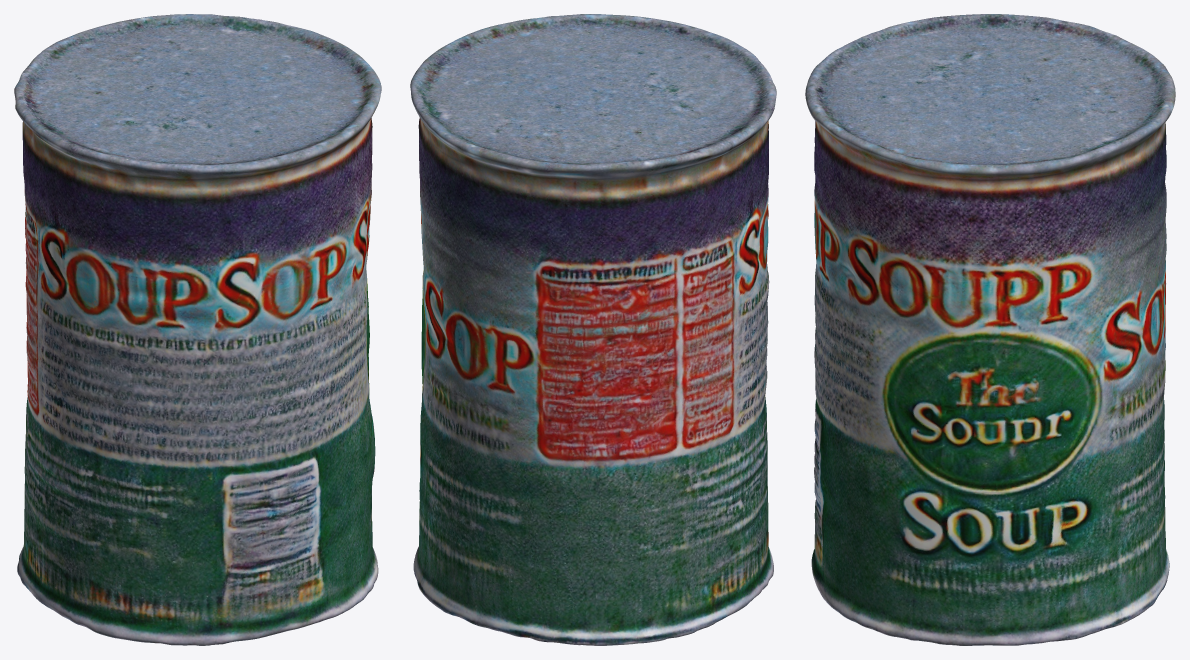
File: food-5.glb
3 renders of one model, left to right at view 1: azimuth 30°, elevation 25°; view 2: azimuth 150°, elevation 25°; view 3: azimuth 270°, elevation 25°, orthographic.
Parts seen in each view (by area): view 1: model_0; view 2: model_0; view 3: model_0.
Boxes of the visible parts, <box> form: model_0: <box>14,14,381,645</box>; model_0: <box>410,14,776,645</box>; model_0: <box>805,14,1175,645</box>.
Size of the model in its own units: 1.07 by 1.54 by 1.07.
1 material, 1 textured.
